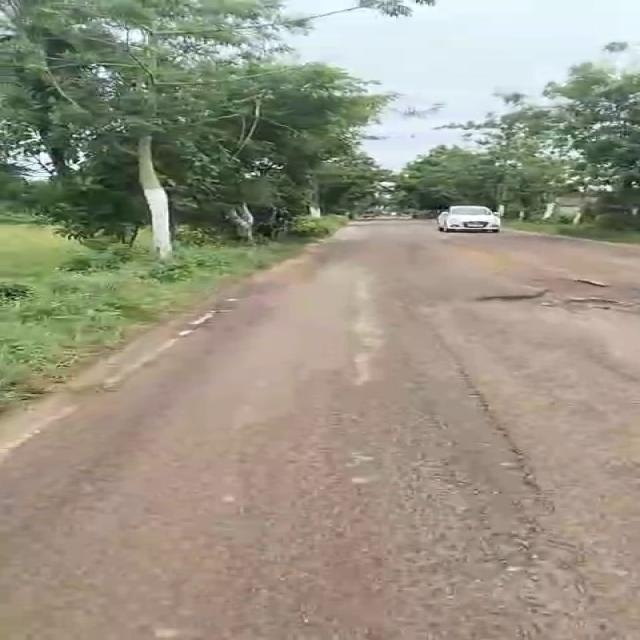pothole: (530, 276, 613, 292), (465, 290, 559, 304), (557, 296, 622, 308)
